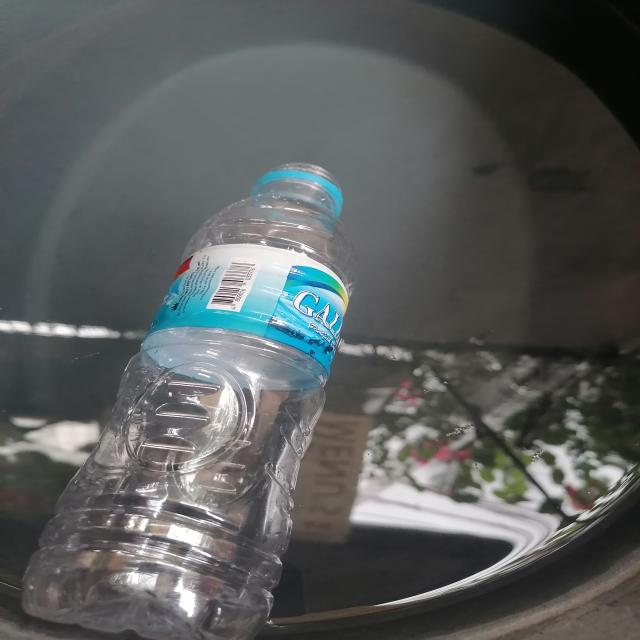Plastic Bottle: (0, 144, 375, 640)
